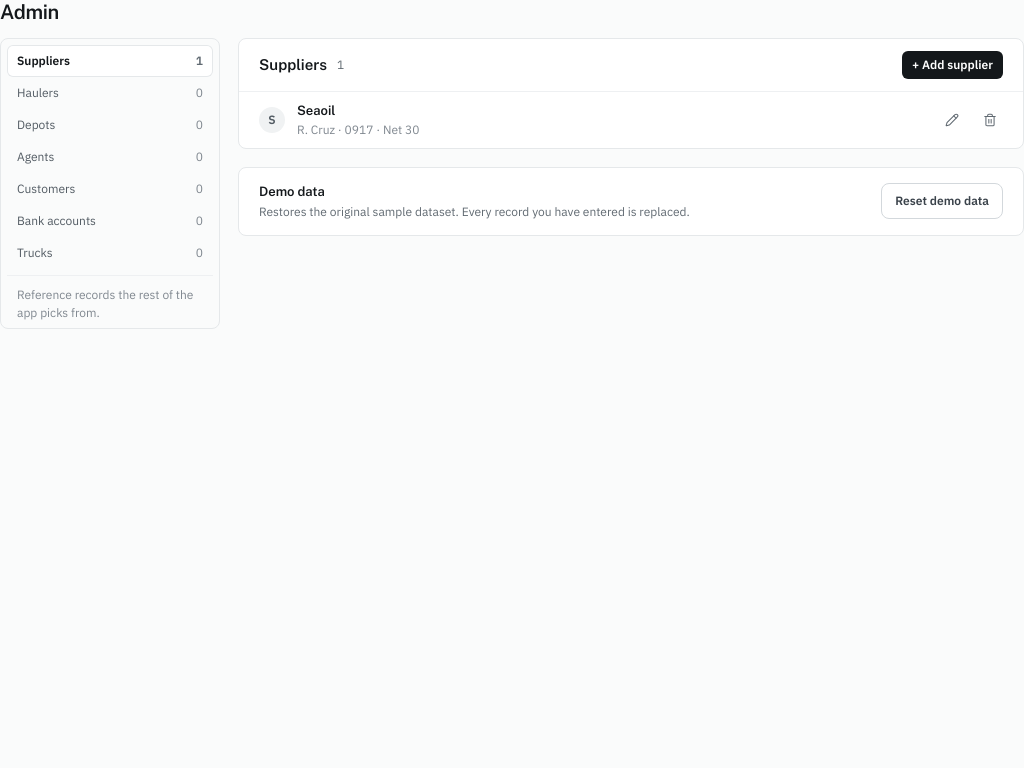
Test case: Admin settings › confirms before replacing everything with demo data
Click the button "Reset demo data": [942, 201] box [881, 183, 1003, 219]
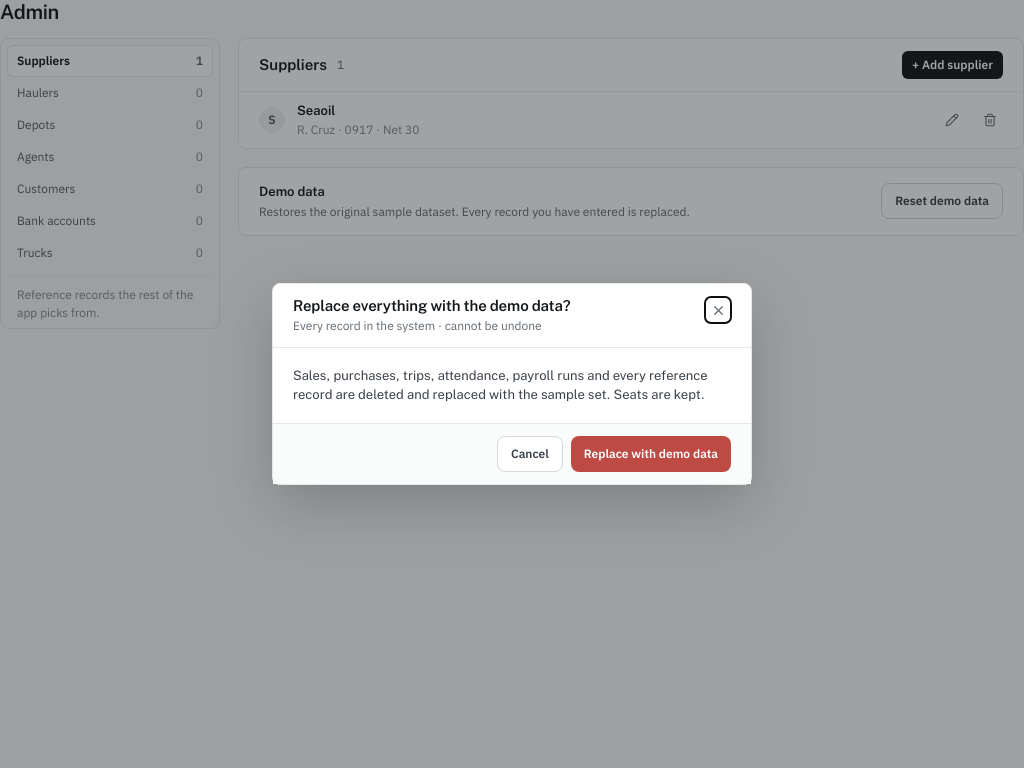
Check: the heading "Replace everything with the demo data?" is shown, box [293, 297, 570, 315]
